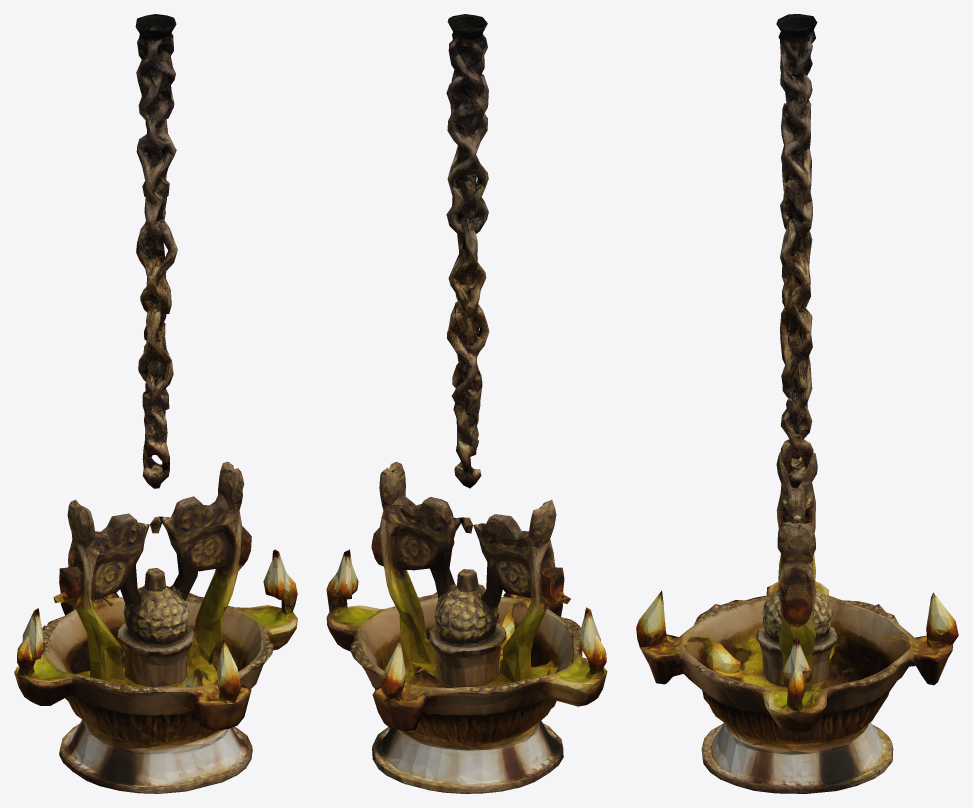
The model's file is sample.glb.
3 renders of one model, left to right at view 1: azimuth 30°, elevation 25°; view 2: azimuth 150°, elevation 25°; view 3: azimuth 270°, elevation 25°, orthographic.
Parts seen in each view (by area): view 1: world; view 2: world; view 3: world.
Boxes of the visible parts, x1=… form: world: x1=14, y1=14, x2=297, y2=793; world: x1=326, y1=14, x2=607, y2=793; world: x1=636, y1=14, x2=958, y2=793.
Bounding box in the file's own units: 0.4009 × 1 × 0.3994.
Materials: 1 (1 with a texture image).
